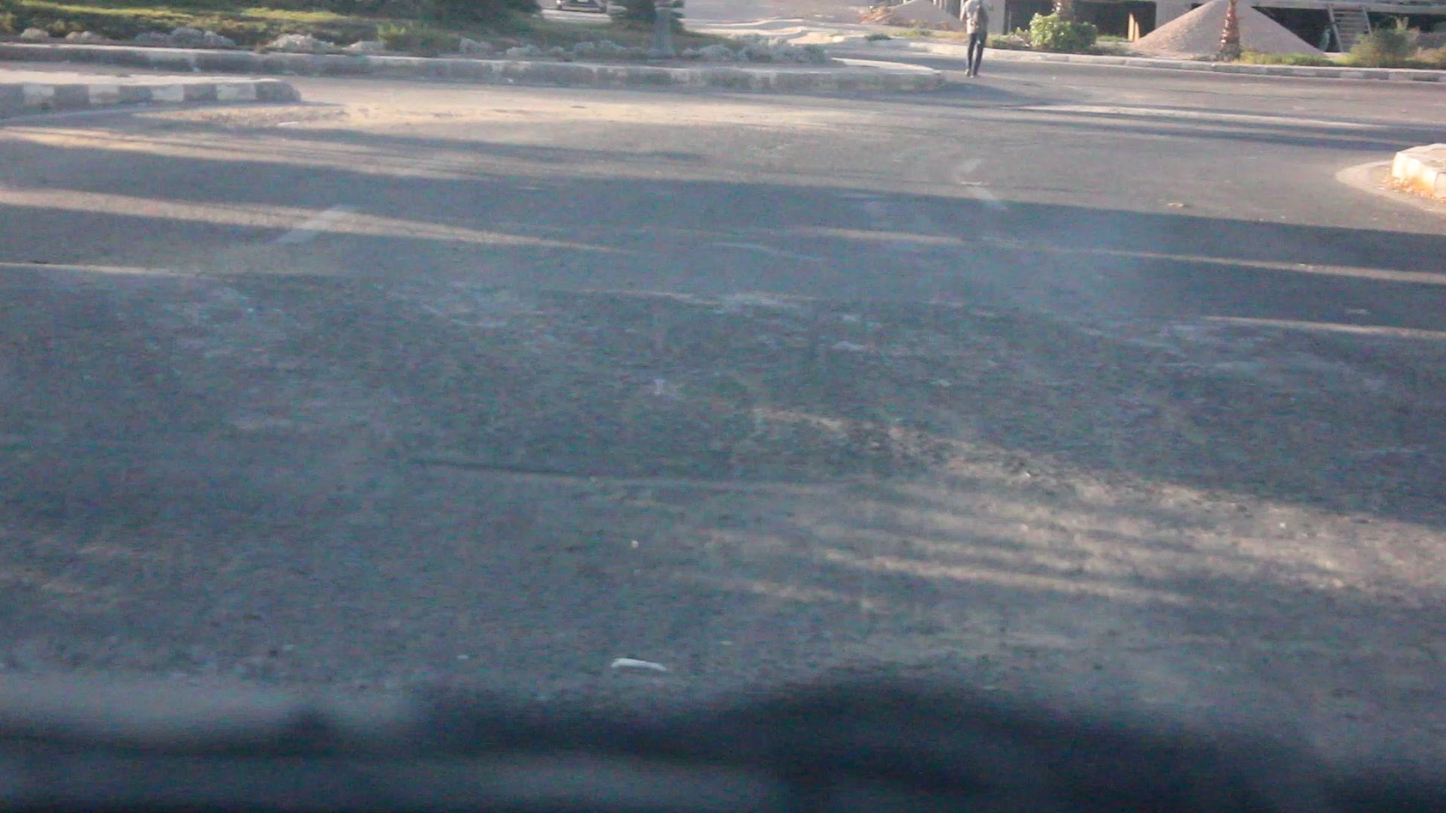Pothole: (403, 418, 853, 531), (1024, 327, 1320, 435)
